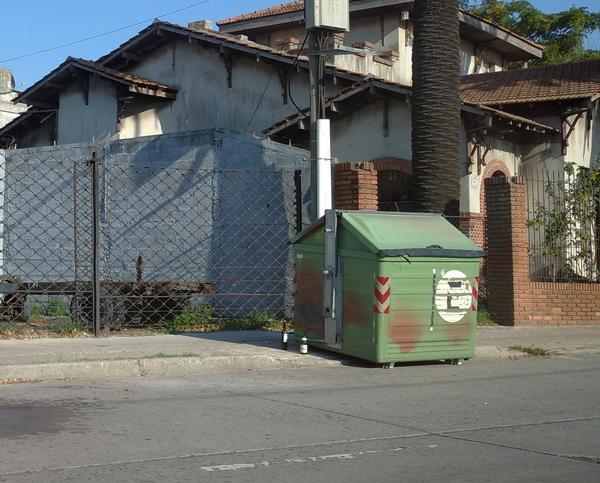Dechets: (280, 319, 288, 349), (299, 329, 308, 354)
Trash: (288, 210, 484, 367)
